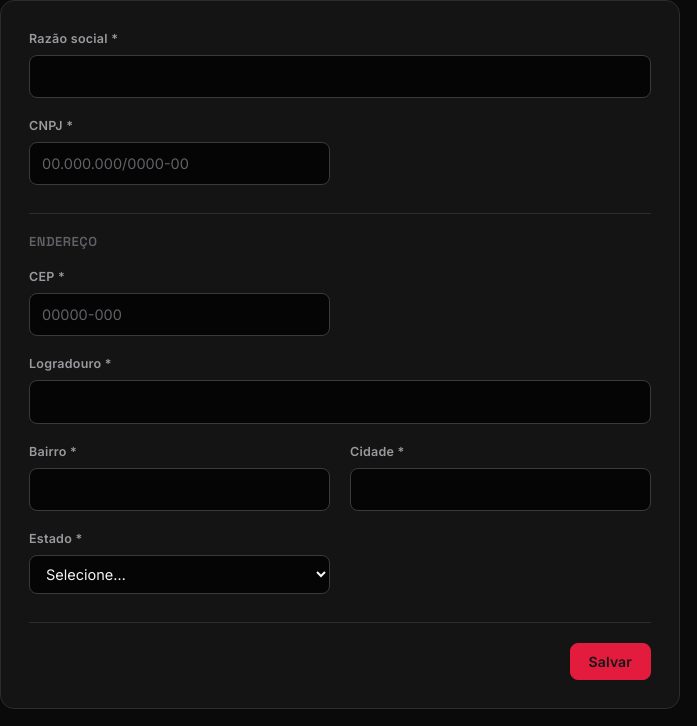
Test case: DealerForm › auto-fills endereco fields from a successful CEP lookup
Type "01310100" into the field labelled "CEP *" at (180, 315), box [29,293,330,336]
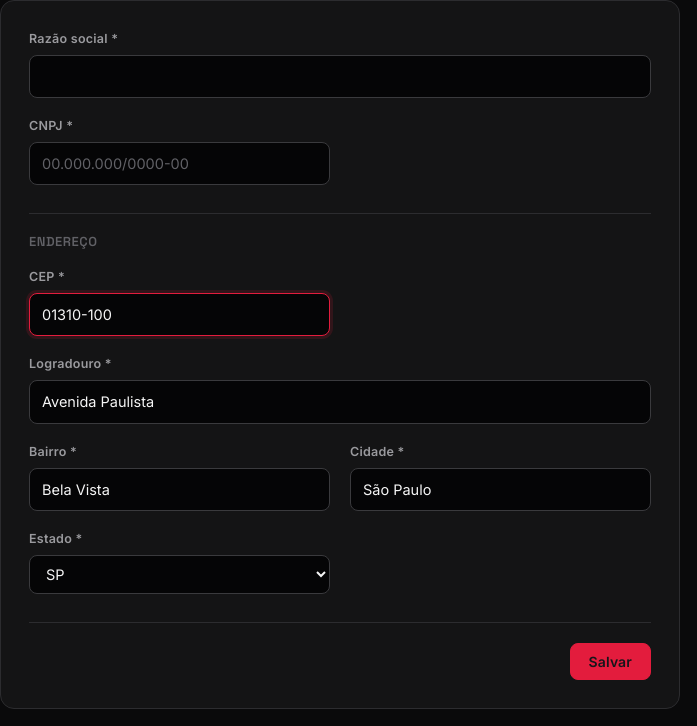
Now the field labelled "Logradouro *" holds "Avenida Paulista", box [29,380,651,424]
Now the field labelled "Bairro *" holds "Bela Vista", box [29,468,330,511]
Now the field labelled "Cidade *" holds "São Paulo", box [350,468,651,511]
